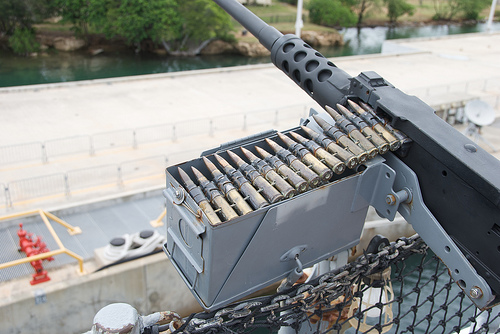rifle: (228, 1, 494, 300)
